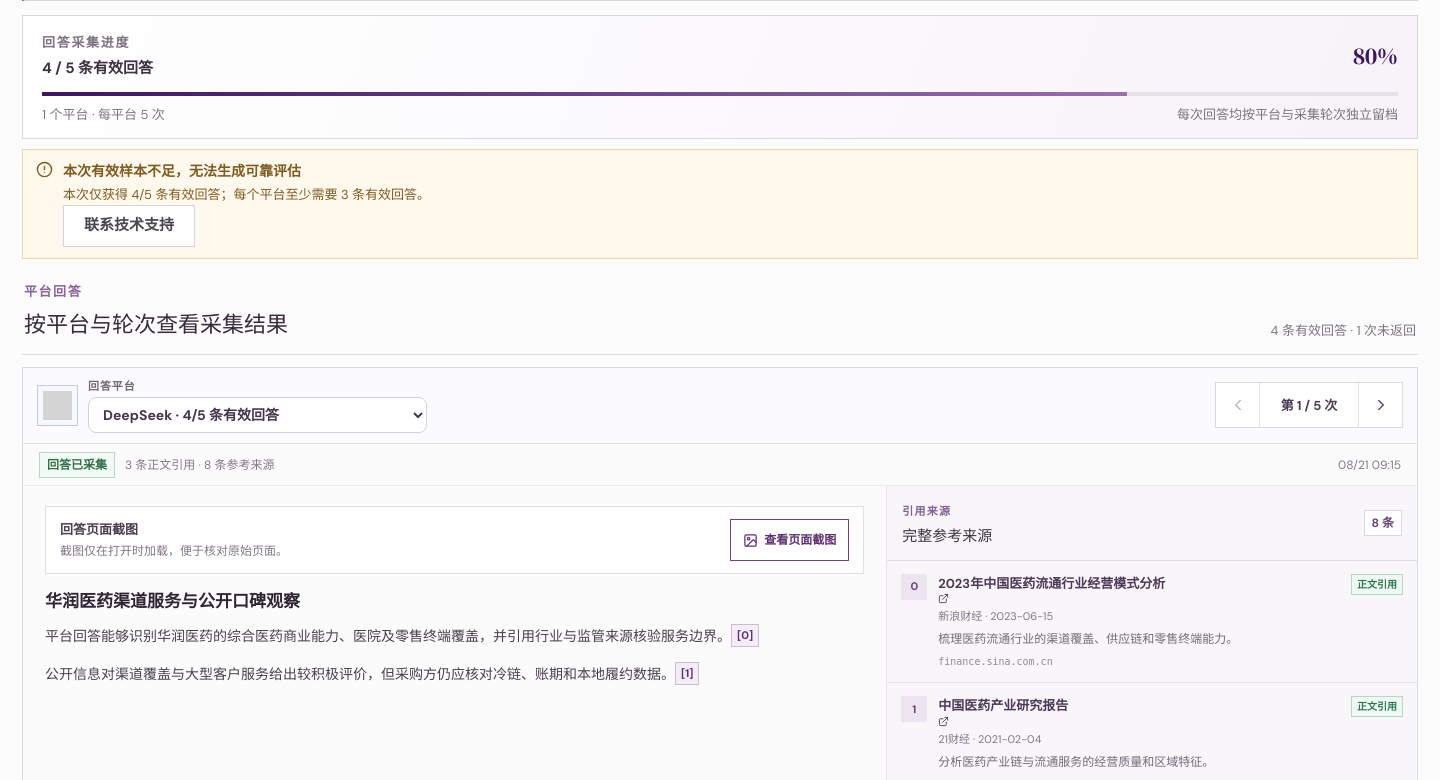
Test case: monitoring result interaction › mounts one of five slots and keeps the failed slot selectable
(page scrolled)
Expected: the button named "查看DeepSeek上一次回答" is disabled, [1216,383,1260,427]
Expected: the text "第 1 / 5 次" is shown, [1281,397,1337,414]
Click the button named "查看DeepSeek下一次回答": (1380, 405) [1358,383,1402,427]
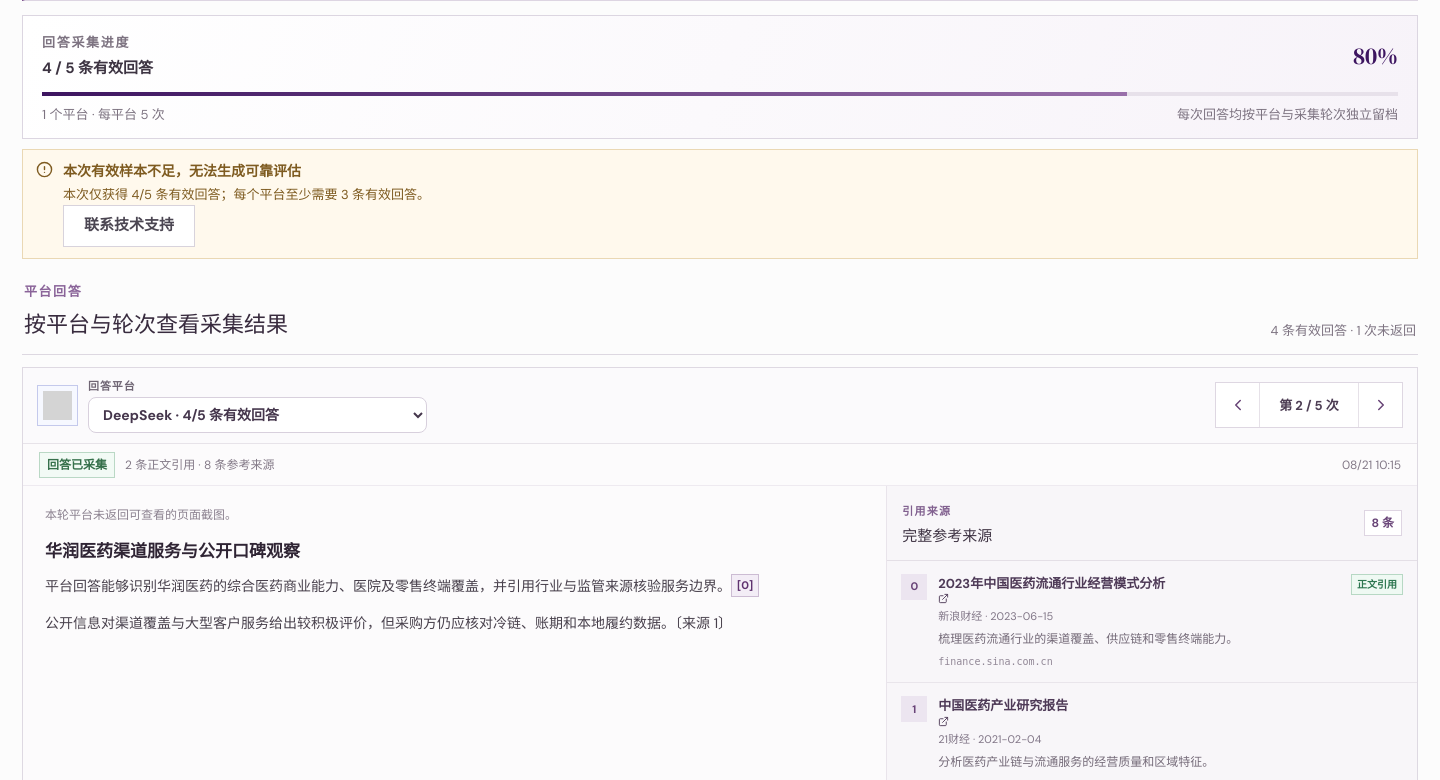
Expected: the text "第 2 / 5 次" is shown, [1279,397,1339,414]
Click the button named "查看DeepSeek下一次回答": (1380, 405) [1358,383,1402,427]
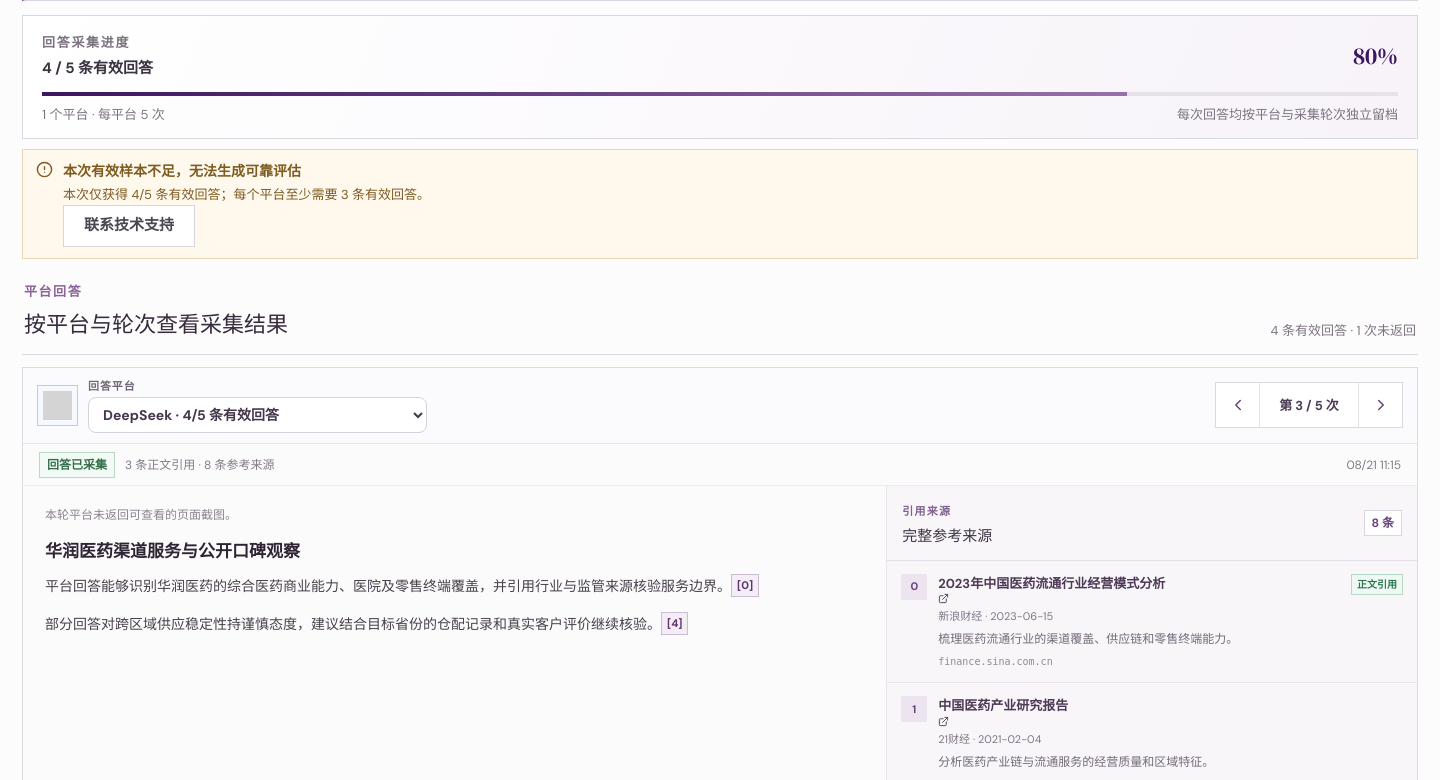
Click the button named "查看DeepSeek下一次回答": (1380, 405) [1358,383,1402,427]
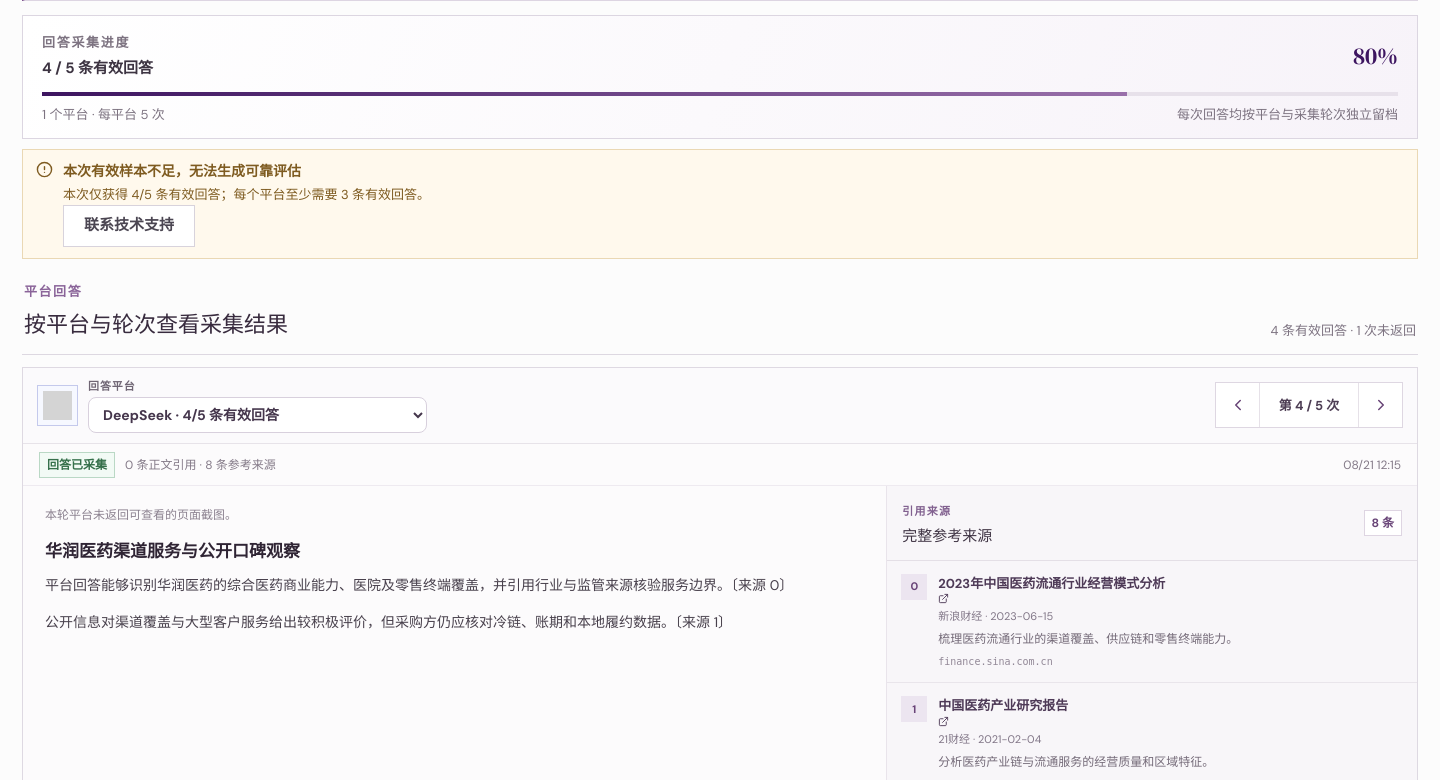
Click the button named "查看DeepSeek下一次回答": (1380, 405) [1358,383,1402,427]
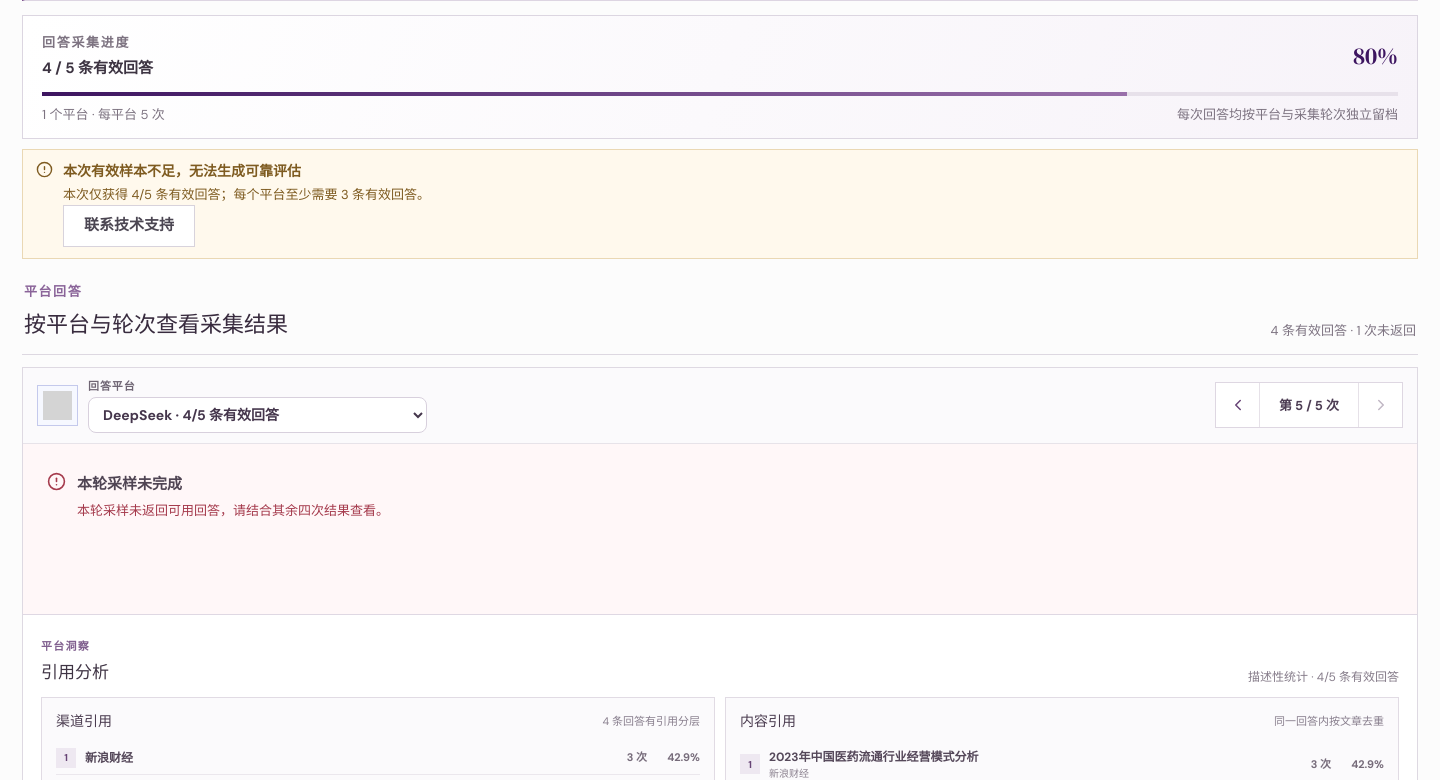
Expected: the text "第 5 / 5 次" is shown, [1279,397,1339,414]
Expected: the text "本轮采样未完成" is shown, [77,474,182,494]
Expected: the text "本轮采样未返回可用回答，请结合其余四次结果查看。" is shown, [77,501,389,522]
